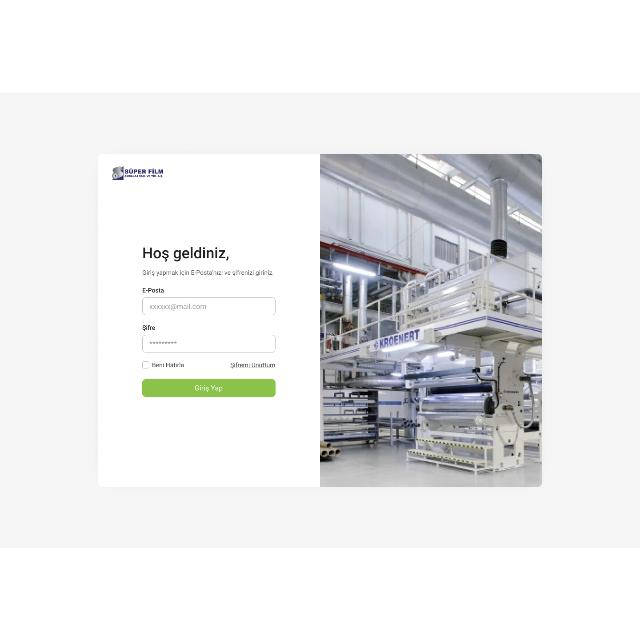QLabel: (142, 246, 230, 262), (139, 268, 275, 276), (227, 360, 277, 368), (194, 383, 223, 391), (152, 361, 184, 367), (140, 286, 166, 292), (141, 324, 155, 330)
VBtn: (142, 378, 276, 397)
VCard: (96, 152, 544, 486)
VCheckbox: (142, 360, 150, 368)
VImg: (321, 155, 541, 485), (104, 160, 178, 184)
VTextField: (142, 334, 276, 352), (142, 296, 276, 314)
